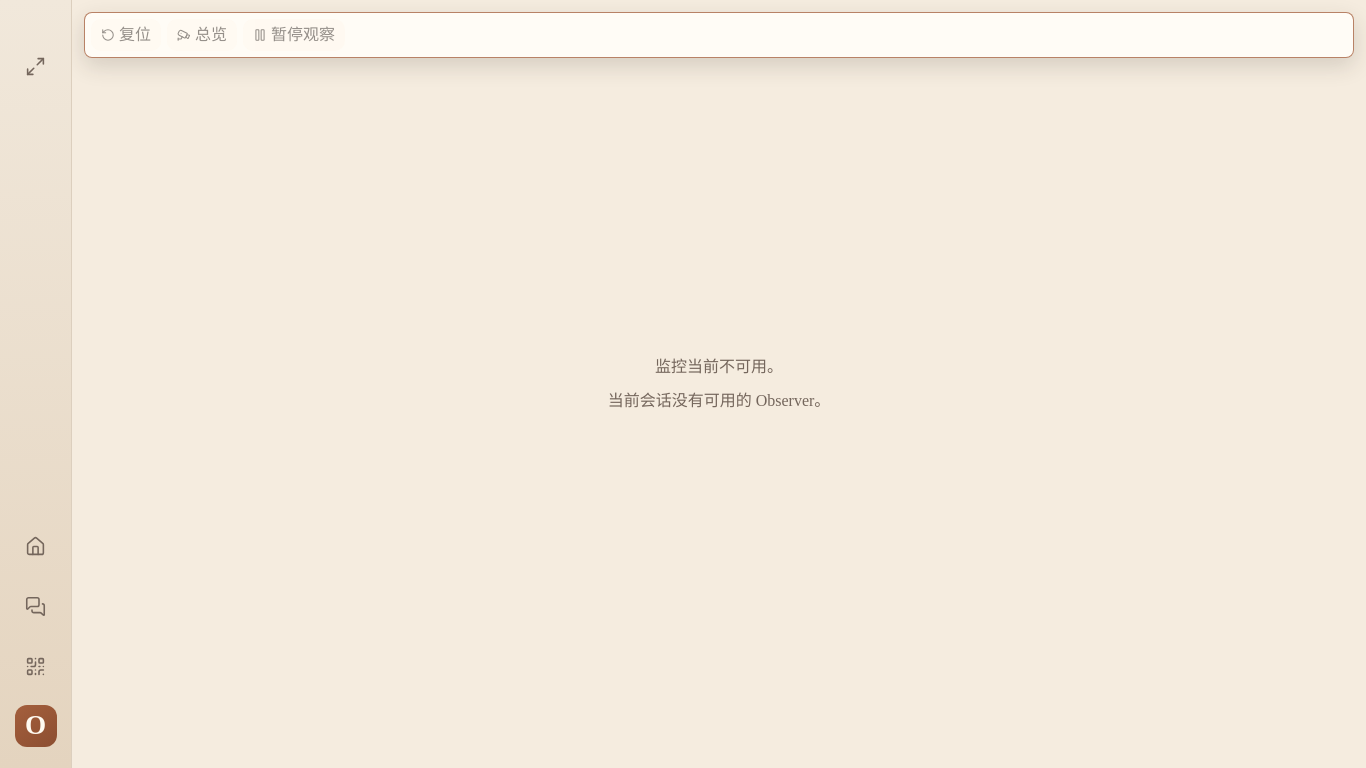
Test: MonitorPage › shows the monitor rail and hides it when immersive mode is entered
Click the button named "进入沉浸观察" at point(36, 66), box [12,42,60,90]
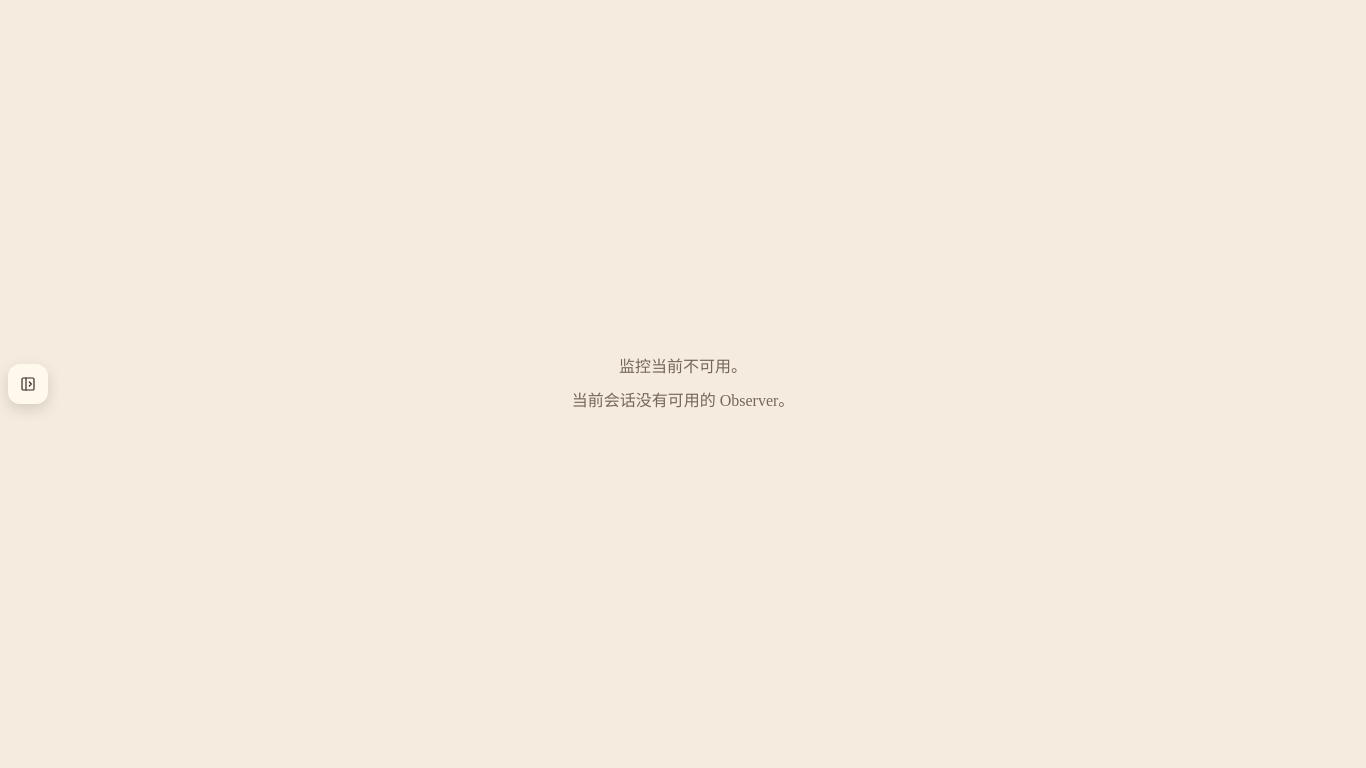
Check: the link "进入管理" is gone
Check: the button "进入沉浸观察" is gone
